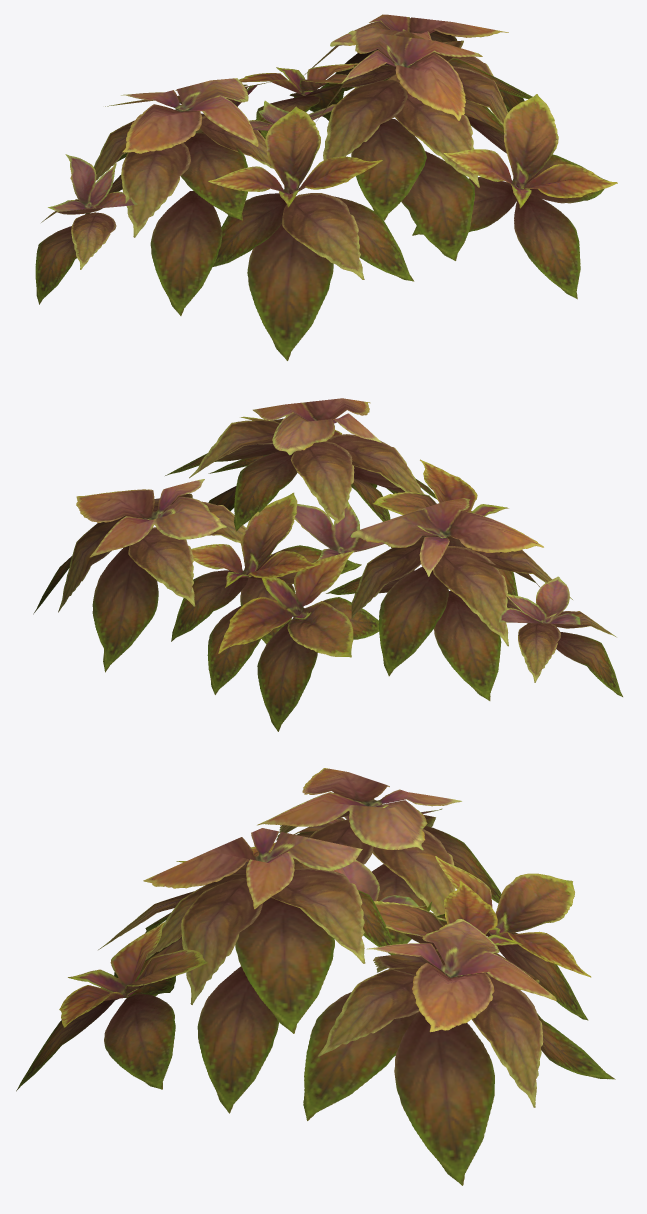
The model's file is wm_灌木洛阳城花草05.fbx.
The picture shows the model from 3 angles, top to bottom: view 1: azimuth 30°, elevation 25°; view 2: azimuth 150°, elevation 25°; view 3: azimuth 270°, elevation 25°; orthographic projection. The views are drawn at different scales.
Parts seen in each view (by area): view 1: wm_灌木洛阳城花草05; view 2: wm_灌木洛阳城花草05; view 3: wm_灌木洛阳城花草05.
Part boxes in pixels (x1=…): wm_灌木洛阳城花草05: x1=35, y1=14, x2=617, y2=360; wm_灌木洛阳城花草05: x1=33, y1=398, x2=622, y2=731; wm_灌木洛阳城花草05: x1=16, y1=768, x2=615, y2=1185.
Size of the model in its own units: 175 by 66.81 by 145.
